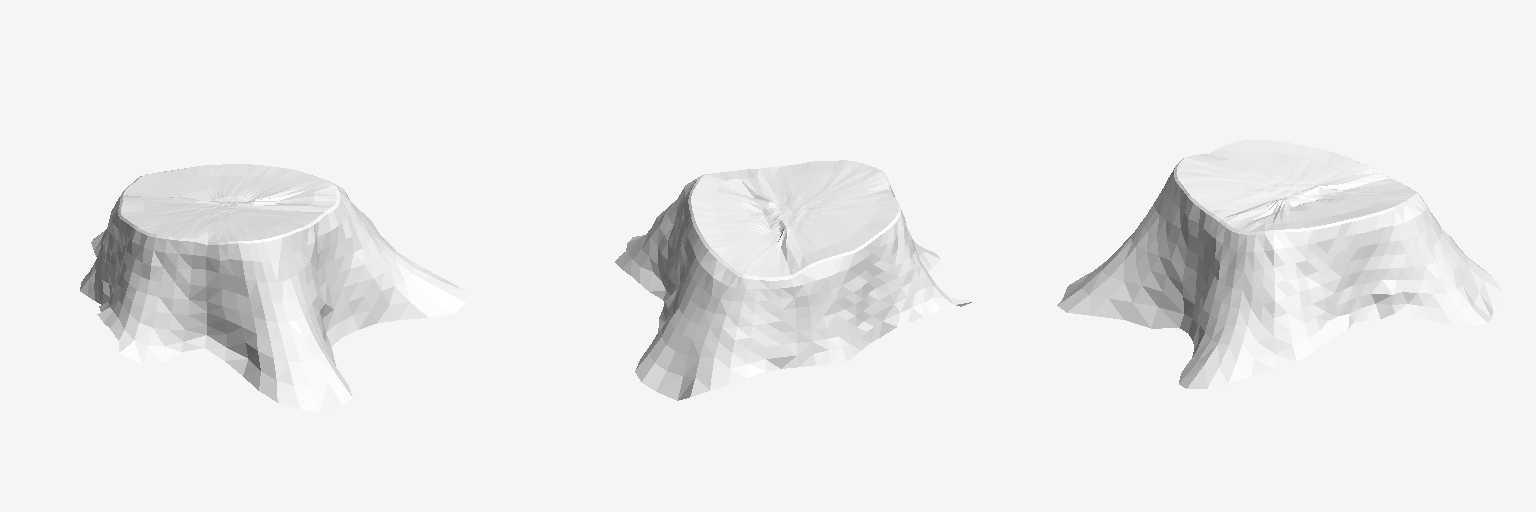
File: Stump.obj
The picture shows the model from 3 angles: view 1: azimuth 30°, elevation 25°; view 2: azimuth 150°, elevation 25°; view 3: azimuth 270°, elevation 25°; orthographic projection.
Parts seen in each view (by area): view 1: tree_stump_v_top_Circle; view 2: tree_stump_v_top_Circle; view 3: tree_stump_v_top_Circle.
Boxes of the visible parts, x1,y1,x2,y2 form: tree_stump_v_top_Circle: [80, 164, 465, 412]; tree_stump_v_top_Circle: [615, 160, 973, 400]; tree_stump_v_top_Circle: [1057, 139, 1502, 388].
Size of the model in its own units: 1.18 by 0.4352 by 1.33.